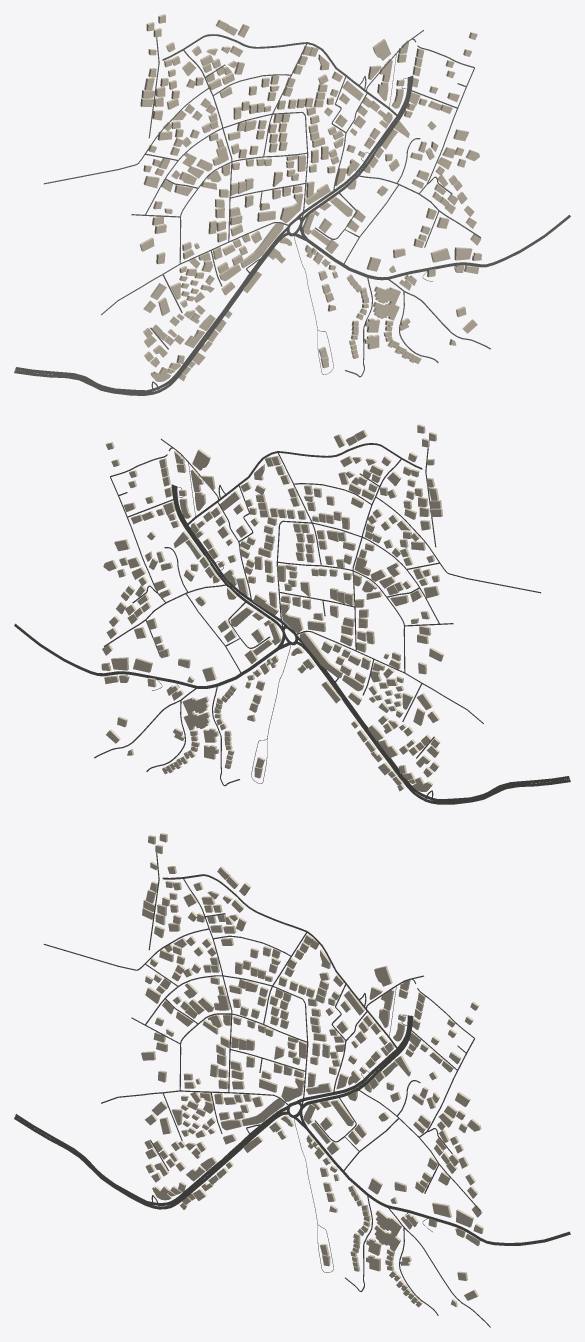
The model's file is amman_3578_3200.glb.
3 views of the same model, one above another, from view 1: azimuth 30°, elevation 25°; view 2: azimuth 150°, elevation 25°; view 3: azimuth 330°, elevation 25° (orthographic).
Visible parts, largest first — view 1: Road شارع الملك عبدالله الثاني, Road شارع الملك عبدالله الثاني.003, Road شارع الملكة رانيا العبدالله.002, Road شارع الأمير علي بن الحسين.001, Road .008, Building_.294; view 2: Road شارع الملك عبدالله الثاني.003, Road شارع الملك عبدالله الثاني, Road شارع الملكة رانيا العبدالله.002, Road شارع الأمير علي بن الحسين.001, Building_.294, Road .008; view 3: Road شارع الملك عبدالله الثاني, Road شارع الملك عبدالله الثاني.003, Road شارع الملكة رانيا العبدالله.002, Road شارع الأمير علي بن الحسين.001.
Part boxes in pixels (x1,y1,x2,y2): Road شارع الملك عبدالله الثاني: (15,234,281,393); Road شارع الملك عبدالله الثاني.003: (14,236,282,395); Road شارع الملكة رانيا العبدالله.002: (306,215,570,280); Road شارع الأمير علي بن الحسين.001: (162,34,399,118); Road .008: (145,111,308,215); Building_.294: (240,223,283,268); Road شارع الملك عبدالله الثاني.003: (302,645,570,804); Road شارع الملك عبدالله الثاني: (303,644,569,802); Road شارع الملكة رانيا العبدالله.002: (14,623,278,688); Road شارع الأمير علي بن الحسين.001: (185,443,422,526); Building_.294: (299,632,342,678); Road .008: (276,520,439,624); Road شارع الملك عبدالله الثاني: (15,1110,281,1205); Road شارع الملك عبدالله الثاني.003: (14,1112,282,1209); Road شارع الملكة رانيا العبدالله.002: (306,1128,570,1245); Road شارع الأمير علي بن الحسين.001: (162,874,400,1051).
Bounding box in the file's own units: 1576 × 1120 × 8.7.
